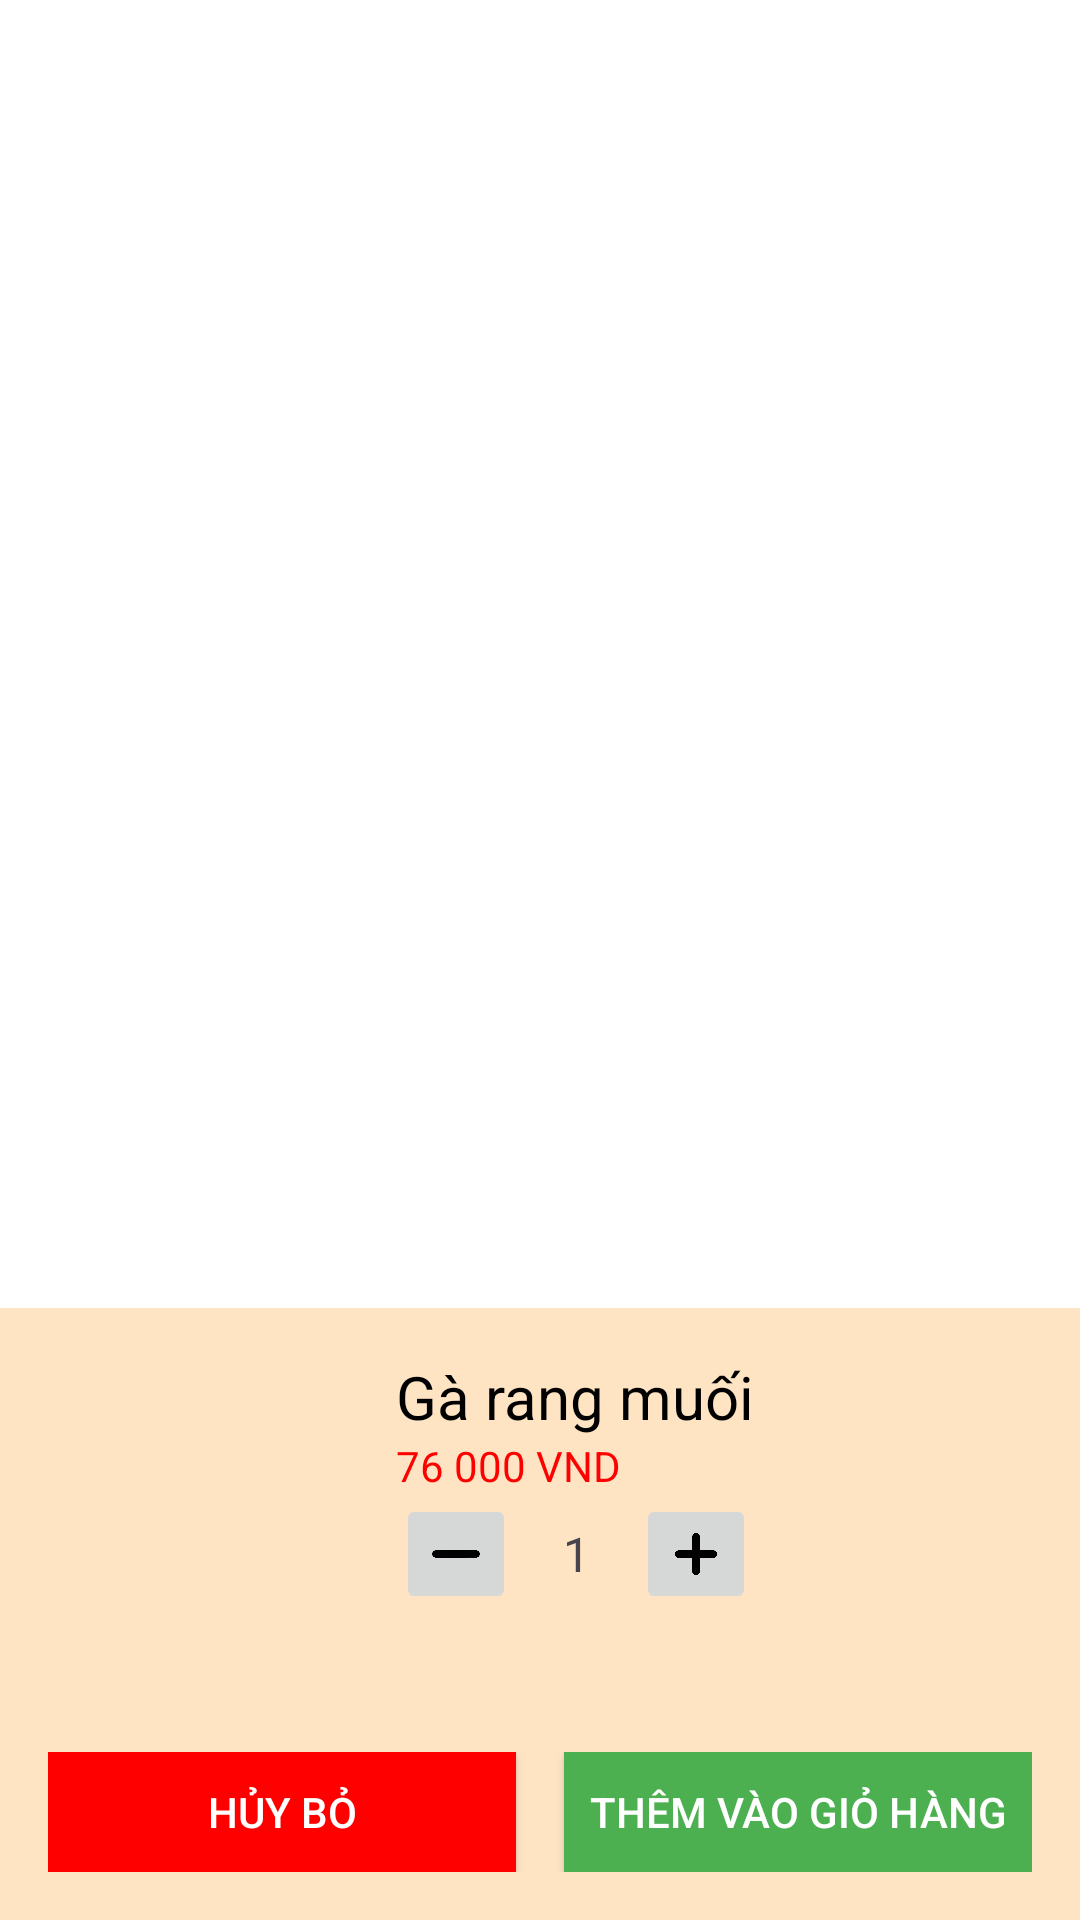

Icons on this 1080px×1920px Android screen, each with the point to tap as [x,y]:
add: [696,1554]
sub: [456,1554]
